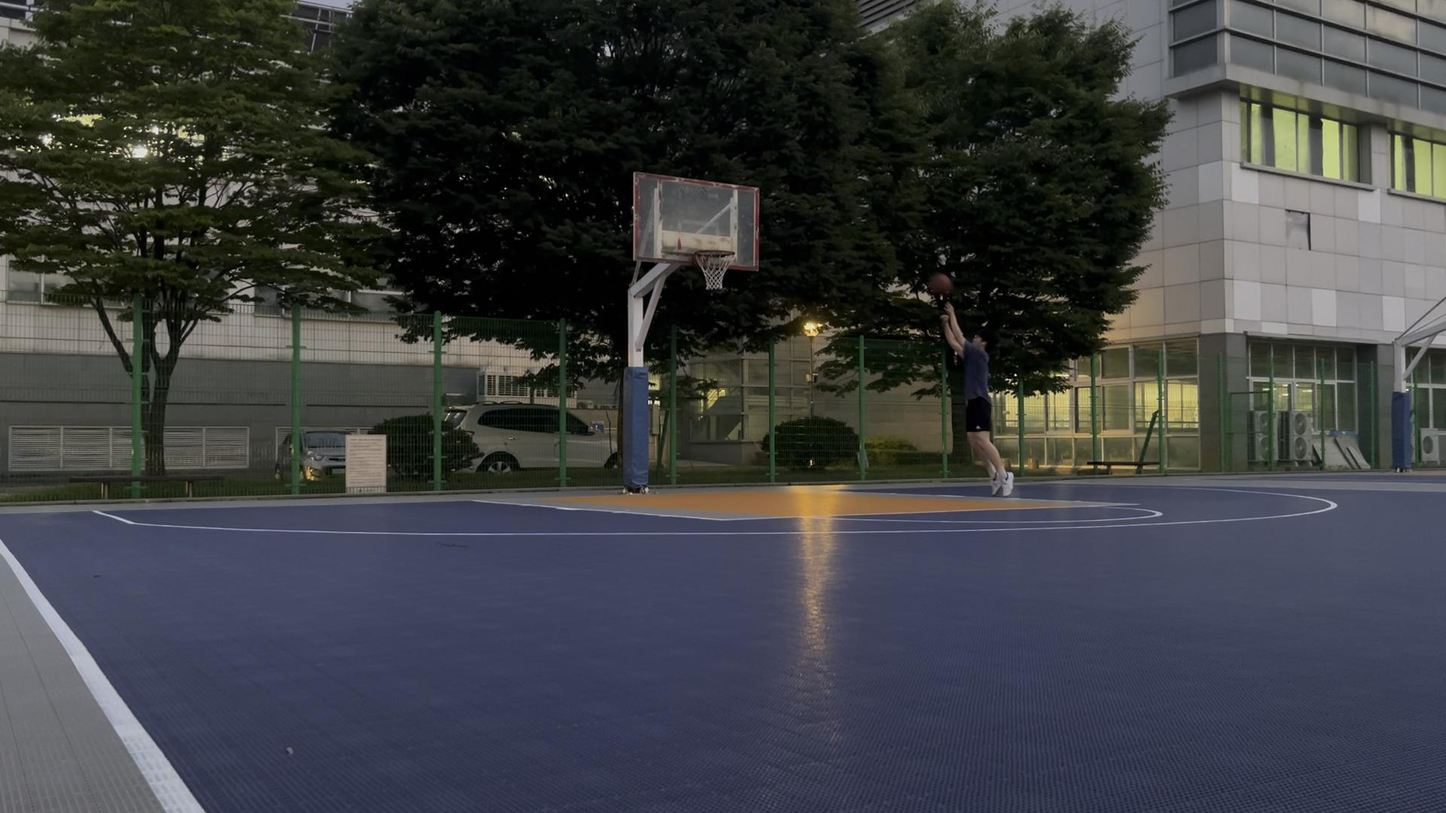ball: (929, 273, 953, 297)
human: (938, 300, 1015, 498)
rim: (694, 249, 736, 291)
